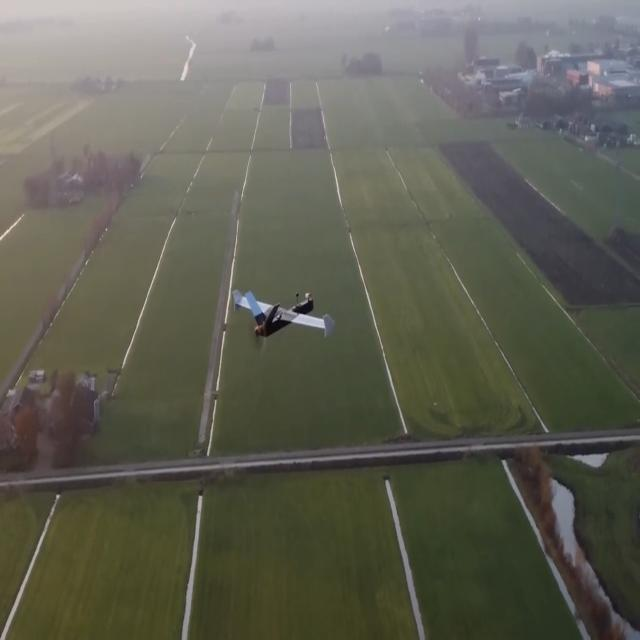iha: (260, 280, 300, 342)
